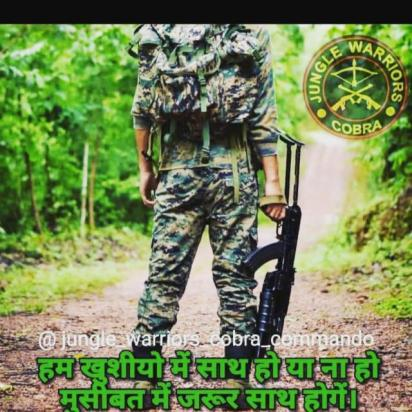Gun: (238, 131, 306, 370)
